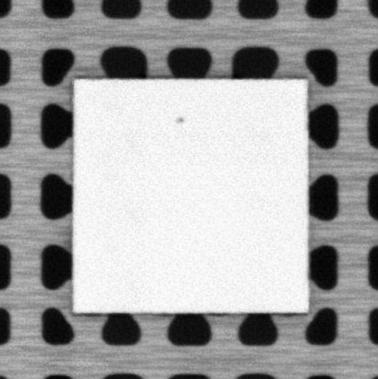DIE_INK: (173, 115, 186, 126)
